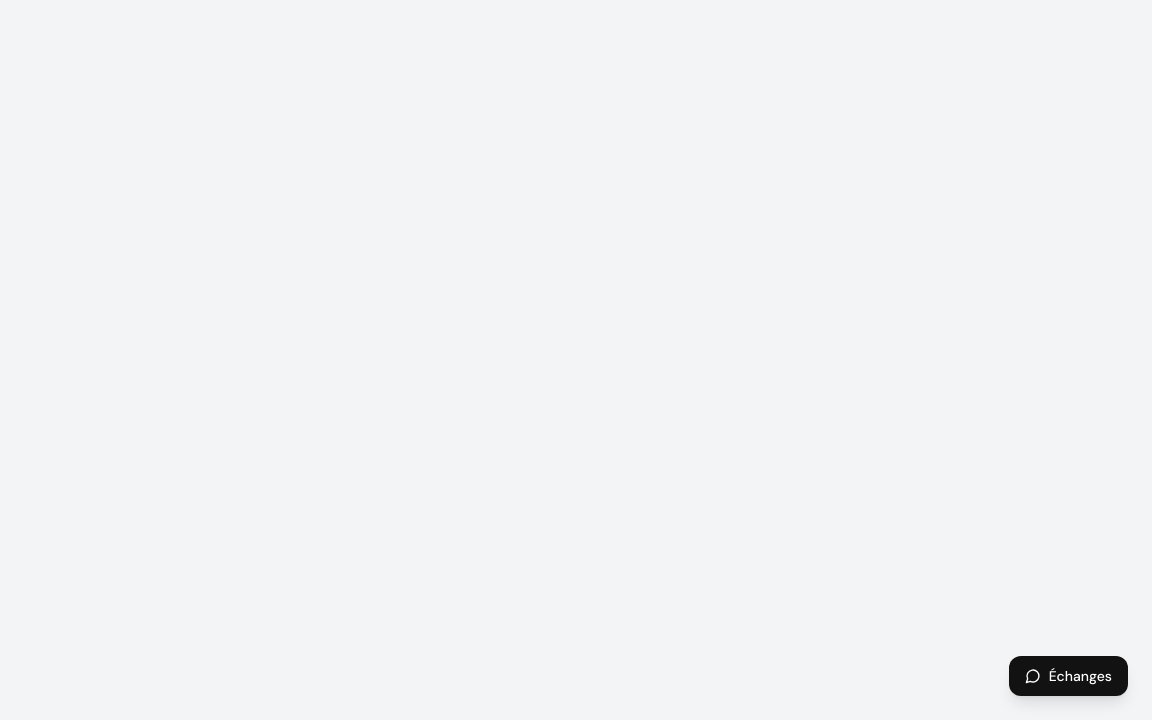
Test: Presentation exchanges › sends client feedback through the scoped brand_strategy token
Later steps or results of the test are not shown.
Click the button "Échanges" at (1068, 676), box x1=1009 y1=656 x2=1128 y2=696
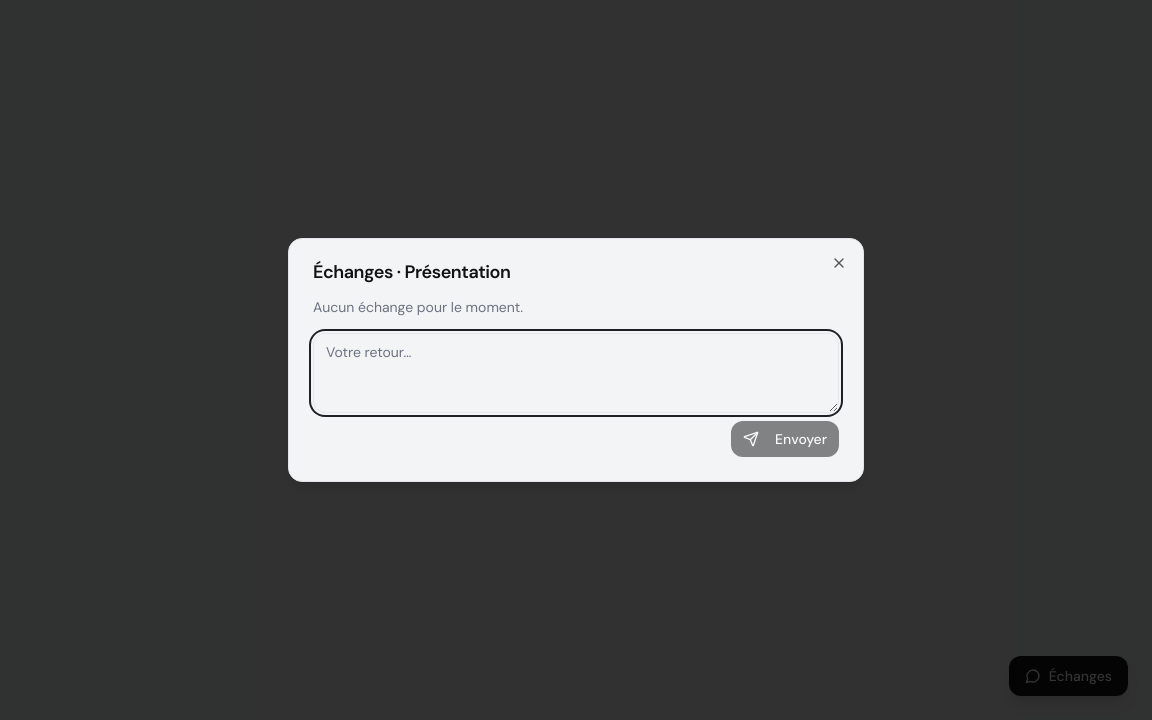
Expected: the button "Envoyer" is disabled, x1=731 y1=421 x2=839 y2=457
Type "Mon retour client" into the text box named "Votre message" at (576, 373), box x1=313 y1=333 x2=839 y2=413
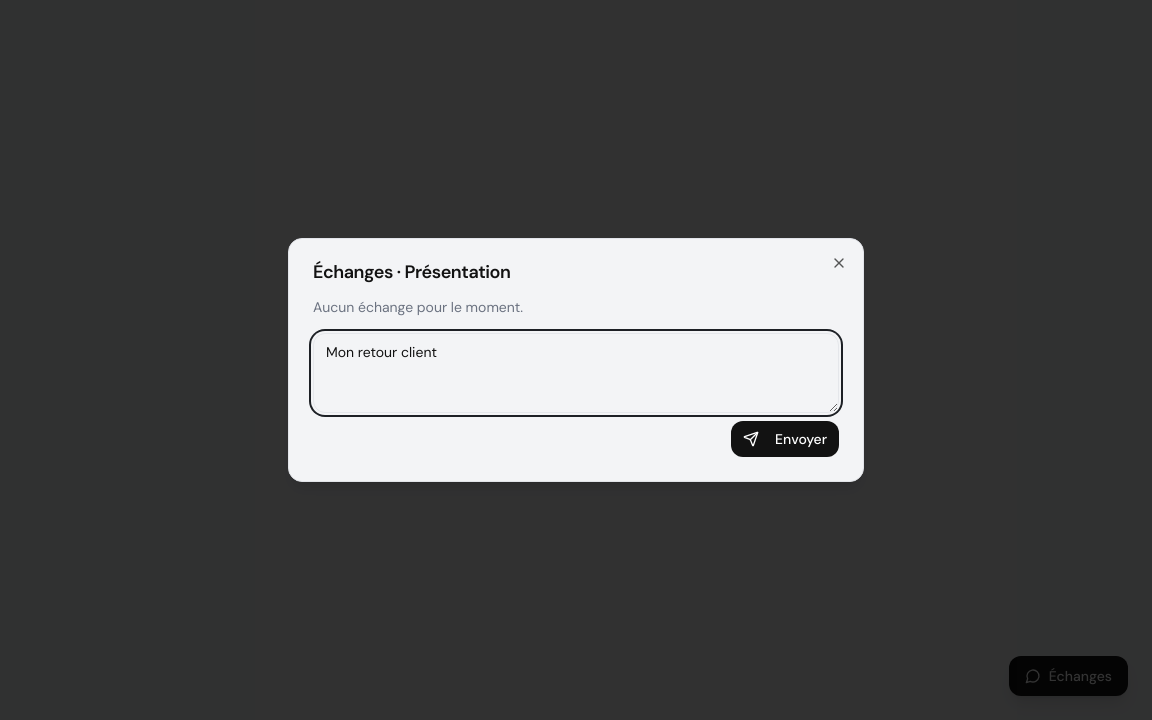
Expected: the button "Envoyer" is enabled, x1=731 y1=421 x2=839 y2=457
